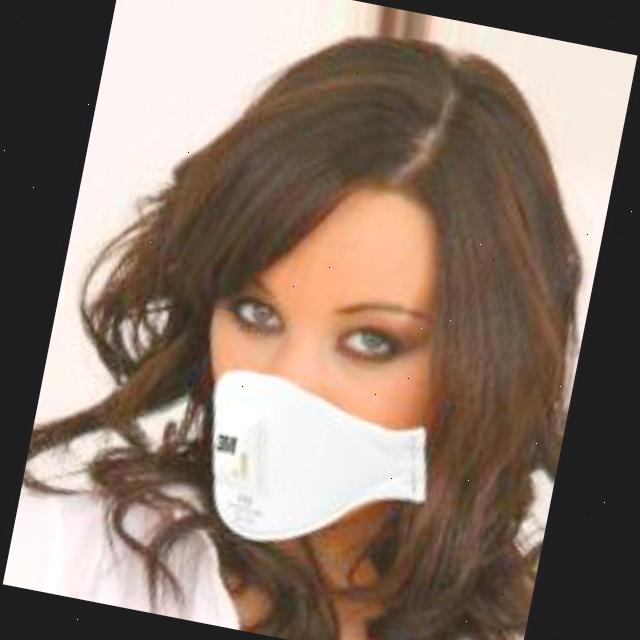suspicion: (151, 60, 601, 622)
